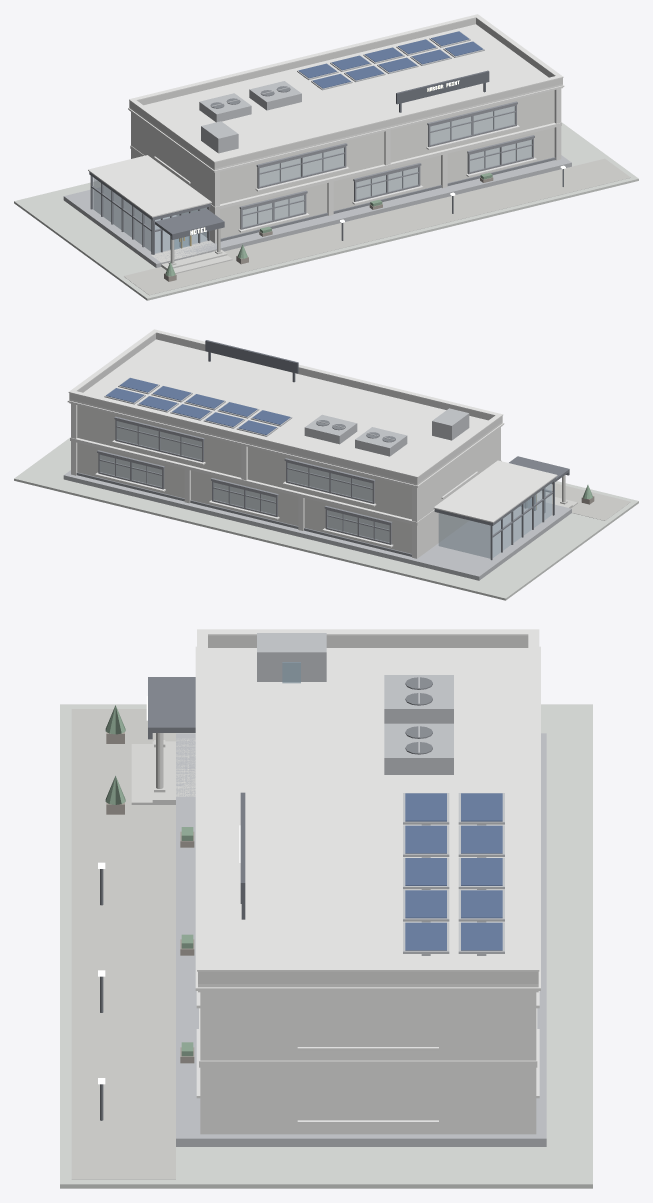
File: harbor_point_hotel_2f_5rooms.glb
The picture shows the model from 3 angles, top to bottom: view 1: azimuth 30°, elevation 25°; view 2: azimuth 150°, elevation 25°; view 3: azimuth 270°, elevation 25°; orthographic projection. The views are drawn at different scales.
Parts seen in each view (by area): view 1: Slabs, Paving, Ground, Plinth, Windows, Parapet, Window_Frames, room_201, room_202, Pilasters, Solar, Roof_Plant (+11 smaller); view 2: Slabs, Ground, Plinth, Windows, Pilasters, Parapet, Window_Frames, room_202, room_201, Lobby_Glass, Solar, Roof_Plant (+10 smaller); view 3: Slabs, Ground, Pilasters, Paving, Plinth, Solar, Roof_Plant, Parapet, Solar_Frame, Steps, Canopy, Sill (+3 smaller).
Part boxes in pixels (x1,y1,x2,y2): Slabs: (88, 14, 564, 217); Paving: (123, 158, 630, 295); Ground: (14, 122, 638, 300); Plinth: (63, 155, 571, 267); Windows: (242, 106, 531, 227); Parapet: (129, 18, 562, 168); Window_Frames: (239, 101, 534, 229); room_201: (220, 132, 384, 204); room_202: (390, 90, 554, 162); Pilasters: (131, 88, 561, 243); Solar: (298, 31, 483, 88); Roof_Plant: (199, 81, 301, 153); Slabs: (67, 329, 557, 525); Ground: (14, 438, 638, 600); Plinth: (63, 470, 571, 580); Windows: (100, 421, 389, 542); Pilasters: (71, 403, 500, 558); Parapet: (69, 333, 502, 483); Window_Frames: (97, 416, 392, 544); room_202: (77, 405, 241, 477); room_201: (248, 447, 411, 519); Lobby_Glass: (438, 483, 551, 558); Solar: (106, 378, 290, 434); Roof_Plant: (304, 408, 469, 456); Slabs: (195, 629, 540, 1067); Ground: (60, 704, 592, 1188); Pilasters: (200, 992, 536, 1134); Paving: (71, 709, 175, 1179); Plinth: (176, 733, 546, 1146); Solar: (405, 793, 502, 950); Roof_Plant: (257, 633, 453, 774); Parapet: (198, 636, 538, 983); Solar_Frame: (403, 793, 504, 955); Steps: (131, 738, 195, 804); Canopy: (148, 677, 195, 739); Sill: (196, 991, 539, 1124).
Size of the model in its own units: 4.9 by 0.97 by 2.3.
